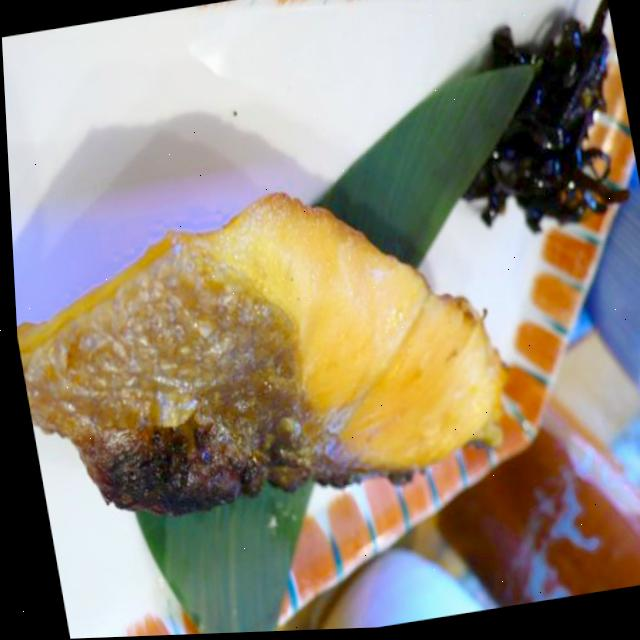熟制海鲜: (7, 146, 529, 547)
